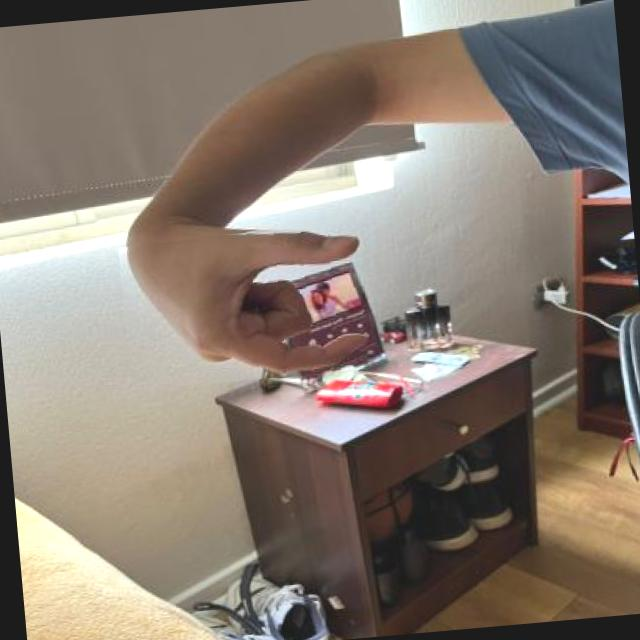G: (117, 216, 380, 390)
